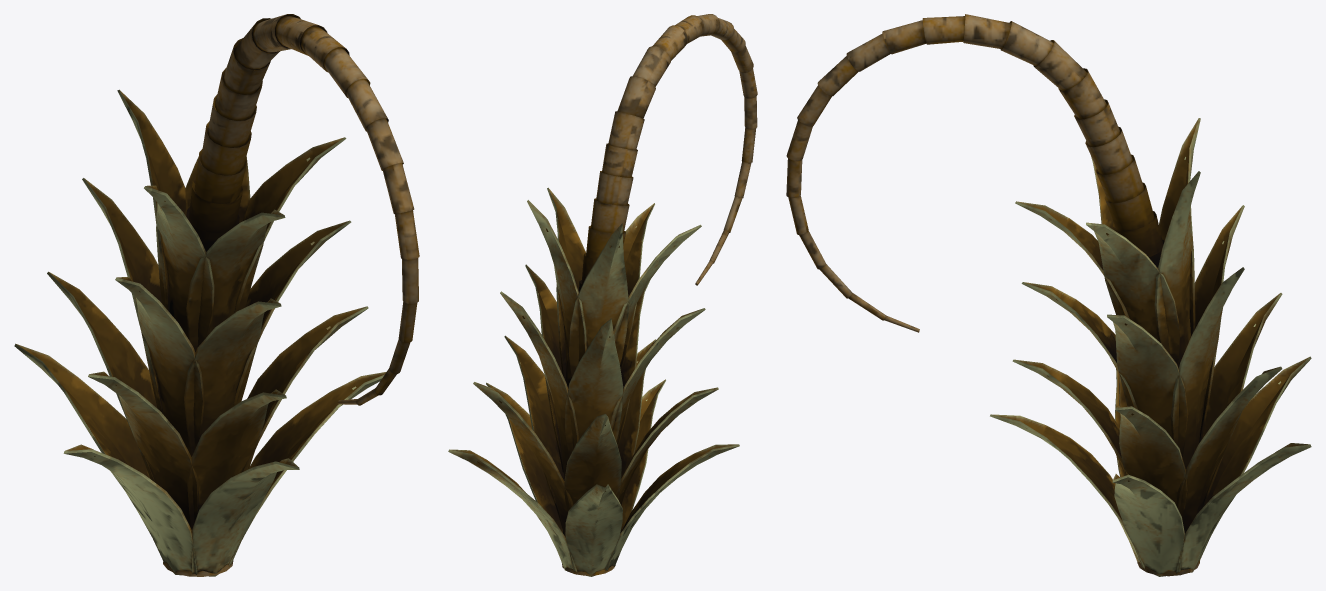
File: Plant 2.fbx
3 renders of one model, left to right at view 1: azimuth 30°, elevation 25°; view 2: azimuth 150°, elevation 25°; view 3: azimuth 270°, elevation 25°, orthographic. The views are drawn at different scales.
Parts seen in each view (by area): view 1: Cylinder_3; view 2: Cylinder_3; view 3: Cylinder_3.
Part boxes in pixels (<box>): Cylinder_3: <box>14,14,419,576</box>; Cylinder_3: <box>448,14,757,576</box>; Cylinder_3: <box>786,14,1311,576</box>.
Bounding box in the file's own units: 293 × 525 × 455.
